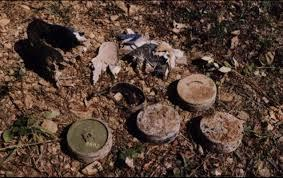pmn: (65, 116, 113, 162), (198, 111, 244, 154), (135, 102, 182, 144), (174, 72, 218, 112)
